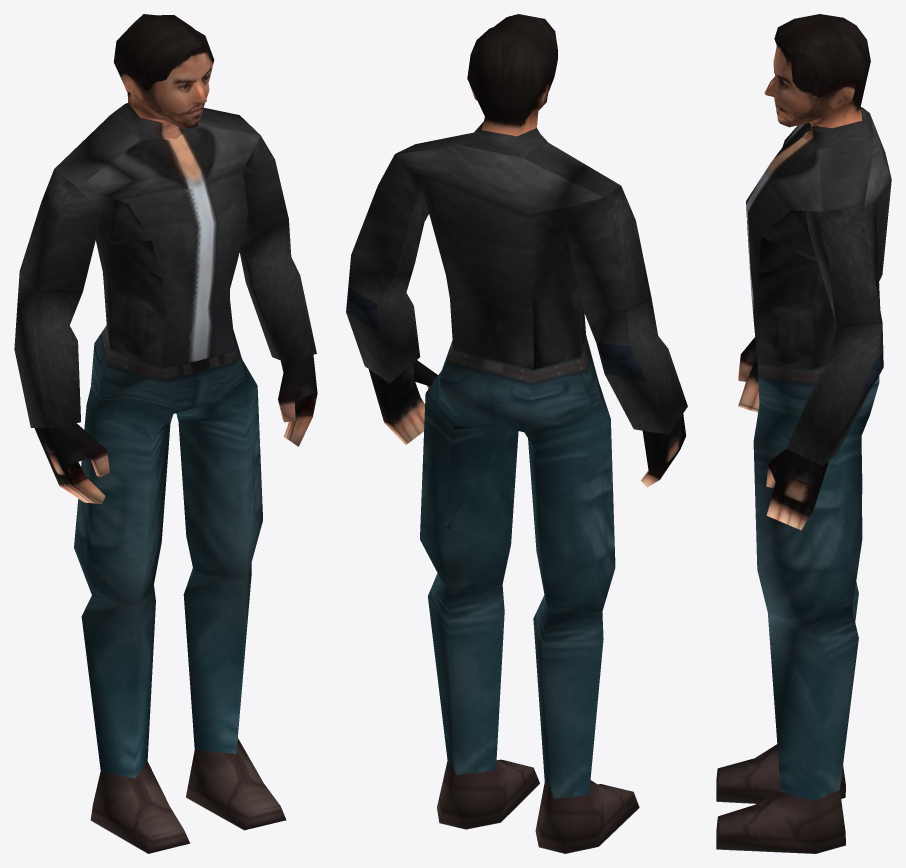
The model's file is Manuel76.obj.
3 renders of one model, left to right at view 1: azimuth 30°, elevation 25°; view 2: azimuth 150°, elevation 25°; view 3: azimuth 270°, elevation 25°, orthographic. The views are drawn at different scales.
Parts seen in each view (by area): view 1: leon; view 2: leon; view 3: leon.
Part boxes in pixels (x1,y1,x2,y2): leon: (14, 14, 317, 853); leon: (346, 14, 687, 853); leon: (716, 14, 891, 853).
Size of the model in its own units: 4.68 by 12.19 by 2.44.
1 material, 1 textured.
